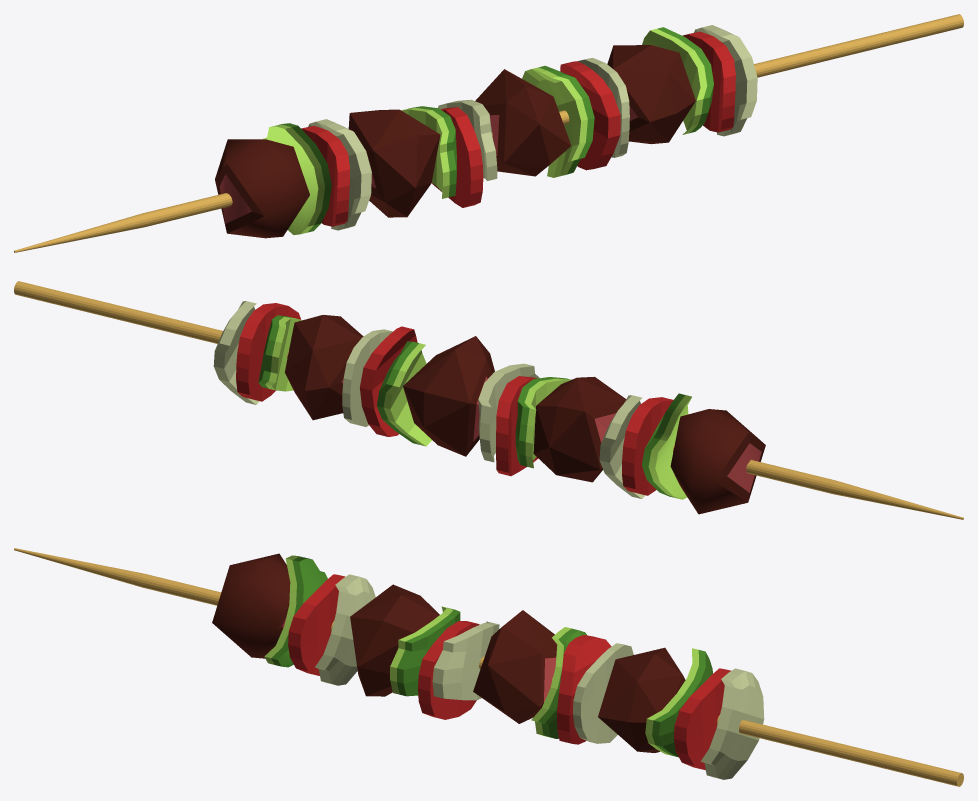
File: kebab.fbx
The picture shows the model from 3 angles, top to bottom: view 1: azimuth 30°, elevation 25°; view 2: azimuth 150°, elevation 25°; view 3: azimuth 330°, elevation 25°; orthographic projection.
Visible parts, largest first — view 1: Shishkebab_251.001; view 2: Shishkebab_251.001; view 3: Shishkebab_251.001.
Boxes of the visible parts, bbox=[...] form: Shishkebab_251.001: bbox=[14, 14, 963, 252]; Shishkebab_251.001: bbox=[14, 281, 963, 519]; Shishkebab_251.001: bbox=[14, 548, 963, 786].
Bounding box in the file's own units: 2661 × 304 × 305.
